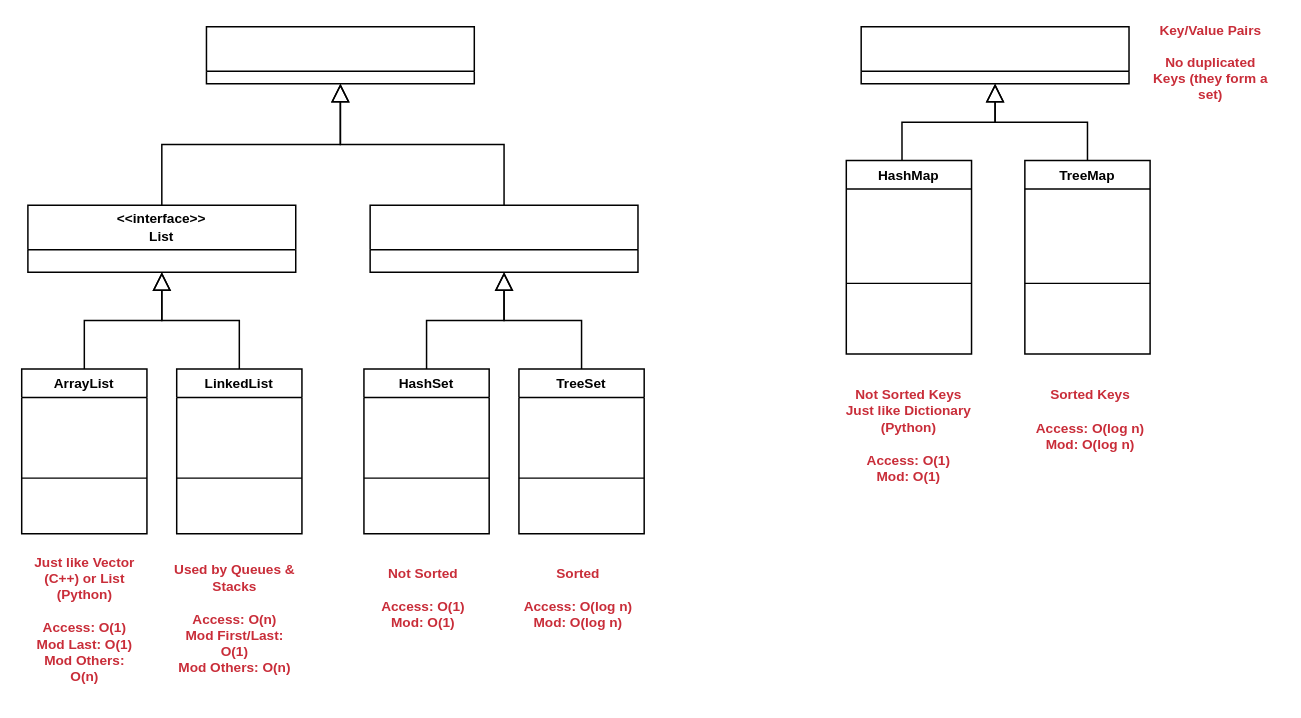
Image size: 1301x718. Some labels were removed from this diagram. The centre of each missing label's shape, as x and y in pixels:
<<interface>> Collection: (339,54)
<<interface>> Map: (994,54)
<<interface>> Set: (503,238)
No Duplicates: (592,189)
